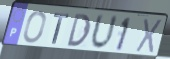1: (115, 16, 132, 53)
D: (66, 12, 92, 48)
O: (22, 10, 48, 44)
T: (51, 12, 70, 46)
U: (89, 13, 119, 52)
X: (134, 18, 164, 56)
